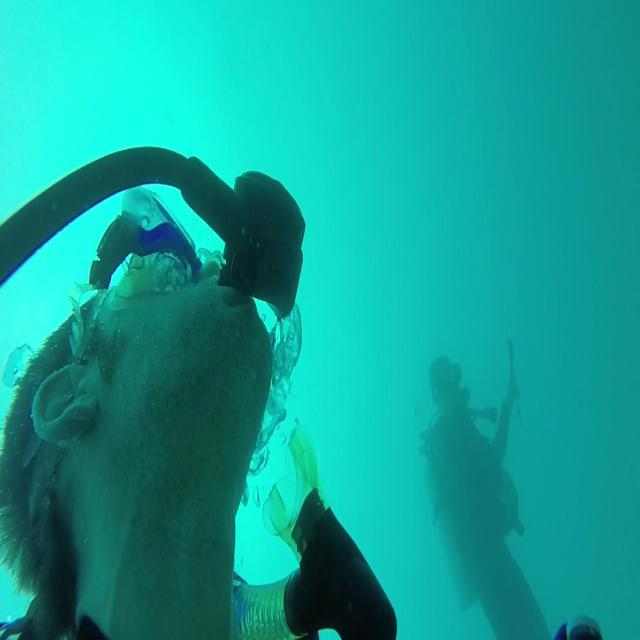human: (1, 150, 397, 638), (418, 344, 553, 638)
